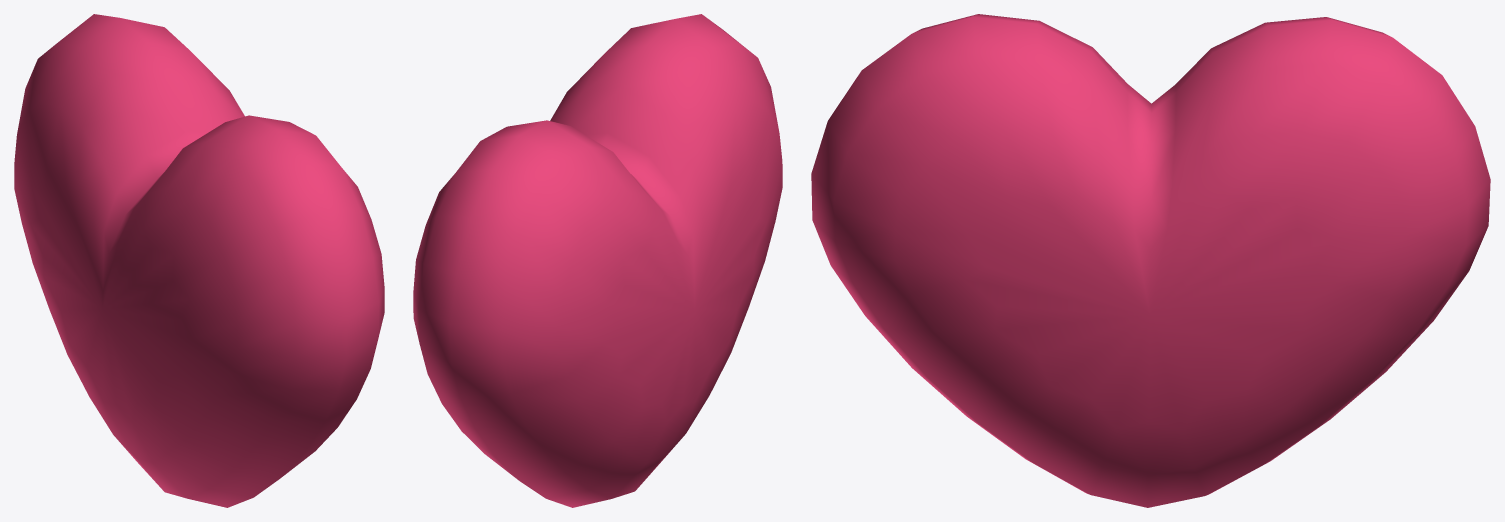
Rendered from heart.glb.
3 views of the same model, side by side, from view 1: azimuth 30°, elevation 25°; view 2: azimuth 150°, elevation 25°; view 3: azimuth 270°, elevation 25° (orthographic). The views are drawn at different scales.
Visible parts, largest first — view 1: Main; view 2: Main; view 3: Main.
Boxes of the visible parts, box(x1,y1,x2,y2) form: Main: box(14, 14, 384, 507); Main: box(413, 14, 782, 507); Main: box(811, 14, 1490, 507).
Bounding box in the file's own units: 0.3777 × 0.7943 × 0.9964.
